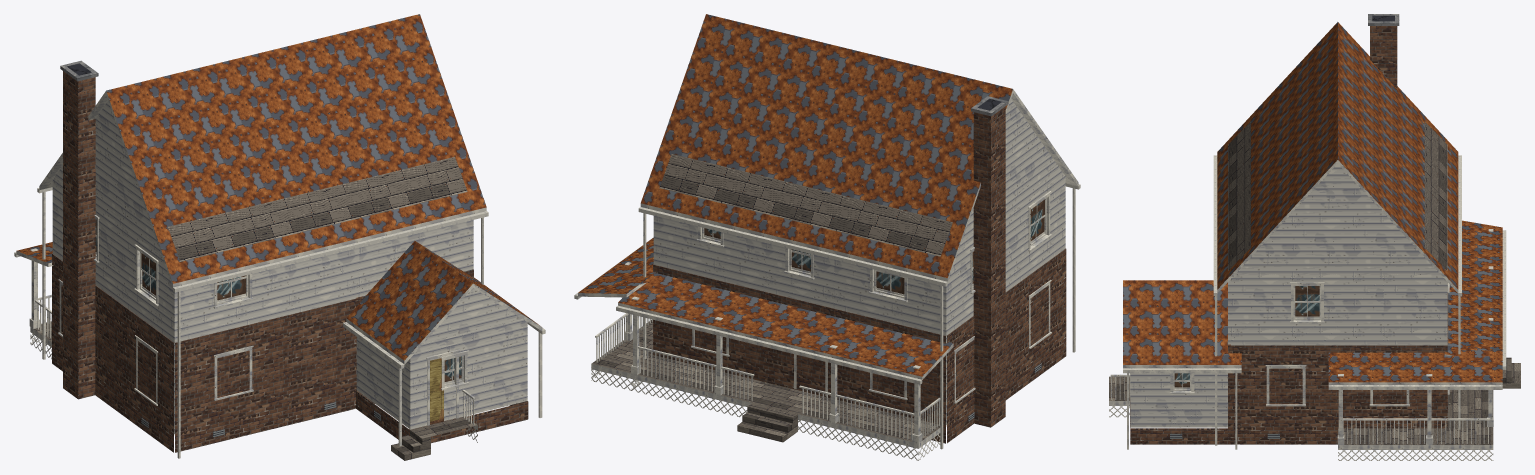
The model's file is RES_House_Farmhouse.obj.
The picture shows the model from 3 angles, left to right: view 1: azimuth 30°, elevation 25°; view 2: azimuth 150°, elevation 25°; view 3: azimuth 270°, elevation 25°; orthographic projection. The views are drawn at different scales.
Visible parts, largest first — view 1: RES_House_Farmhouse_Exterior_M_Furn_MetalRusted, RES_House_Farmhouse_Exterior_M_Arch_BrickWeatheredBrown, RES_House_Farmhouse_Exterior_M_Arch_SidingWhite, RES_House_Farmhouse_Exterior_M_Arch_WoodPlanksAged, RES_House_Farmhouse_Exterior_M_Arch_TrimPainted, RES_House_Farmhouse_Exterior_M_Town_PaintWhite, RES_House_Farmhouse_Exterior_M_Arch_WindowGlassDirty, INT_Door_Back_M_Furn_WoodPainted; view 2: RES_House_Farmhouse_Exterior_M_Furn_MetalRusted, RES_House_Farmhouse_Exterior_M_Arch_BrickWeatheredBrown, RES_House_Farmhouse_Exterior_M_Arch_SidingWhite, RES_House_Farmhouse_Exterior_M_Arch_WoodPlanksAged, RES_House_Farmhouse_Exterior_M_Arch_TrimPainted, RES_House_Farmhouse_Exterior_M_Town_PaintWhite, RES_House_Farmhouse_Exterior_M_Res_Lattice, RES_House_Farmhouse_Exterior_M_Arch_WindowGlassDirty; view 3: RES_House_Farmhouse_Exterior_M_Furn_MetalRusted, RES_House_Farmhouse_Exterior_M_Arch_SidingWhite, RES_House_Farmhouse_Exterior_M_Arch_BrickWeatheredBrown, RES_House_Farmhouse_Exterior_M_Arch_WoodPlanksAged, RES_House_Farmhouse_Exterior_M_Arch_TrimPainted, RES_House_Farmhouse_Exterior_M_Town_PaintWhite, RES_House_Farmhouse_Exterior_M_Res_Lattice, RES_House_Farmhouse_Exterior_M_Arch_WindowGlassDirty.
Boxes of the visible parts, left/top/right/bottom form: RES_House_Farmhouse_Exterior_M_Furn_MetalRusted: left=16, top=14, right=539, bottom=360; RES_House_Farmhouse_Exterior_M_Arch_BrickWeatheredBrown: left=52, top=71, right=528, bottom=452; RES_House_Farmhouse_Exterior_M_Arch_SidingWhite: left=52, top=101, right=527, bottom=434; RES_House_Farmhouse_Exterior_M_Arch_WoodPlanksAged: left=34, top=157, right=477, bottom=460; RES_House_Farmhouse_Exterior_M_Arch_TrimPainted: left=16, top=91, right=542, bottom=430; RES_House_Farmhouse_Exterior_M_Town_PaintWhite: left=14, top=187, right=545, bottom=458; RES_House_Farmhouse_Exterior_M_Arch_WindowGlassDirty: left=95, top=219, right=461, bottom=381; INT_Door_Back_M_Furn_WoodPainted: left=430, top=358, right=443, bottom=421; RES_House_Farmhouse_Exterior_M_Furn_MetalRusted: left=578, top=14, right=1012, bottom=376; RES_House_Farmhouse_Exterior_M_Arch_BrickWeatheredBrown: left=653, top=106, right=1066, bottom=443; RES_House_Farmhouse_Exterior_M_Arch_SidingWhite: left=653, top=99, right=1065, bottom=425; RES_House_Farmhouse_Exterior_M_Arch_WoodPlanksAged: left=591, top=154, right=952, bottom=442; RES_House_Farmhouse_Exterior_M_Arch_TrimPainted: left=578, top=89, right=1078, bottom=448; RES_House_Farmhouse_Exterior_M_Town_PaintWhite: left=574, top=183, right=1080, bottom=449; RES_House_Farmhouse_Exterior_M_Res_Lattice: left=591, top=369, right=940, bottom=460; RES_House_Farmhouse_Exterior_M_Arch_WindowGlassDirty: left=704, top=199, right=1044, bottom=294; RES_House_Farmhouse_Exterior_M_Furn_MetalRusted: left=1123, top=22, right=1502, bottom=382; RES_House_Farmhouse_Exterior_M_Arch_SidingWhite: left=1130, top=164, right=1447, bottom=427; RES_House_Farmhouse_Exterior_M_Arch_BrickWeatheredBrown: left=1130, top=26, right=1448, bottom=444; RES_House_Farmhouse_Exterior_M_Arch_WoodPlanksAged: left=1109, top=121, right=1520, bottom=444; RES_House_Farmhouse_Exterior_M_Arch_TrimPainted: left=1109, top=160, right=1502, bottom=449; RES_House_Farmhouse_Exterior_M_Town_PaintWhite: left=1123, top=155, right=1506, bottom=449; RES_House_Farmhouse_Exterior_M_Res_Lattice: left=1109, top=406, right=1493, bottom=460; RES_House_Farmhouse_Exterior_M_Arch_WindowGlassDirty: left=1174, top=286, right=1319, bottom=387.
Size of the model in its own units: 12.58 by 10.5 by 13.5.
27 materials, 26 textured.
